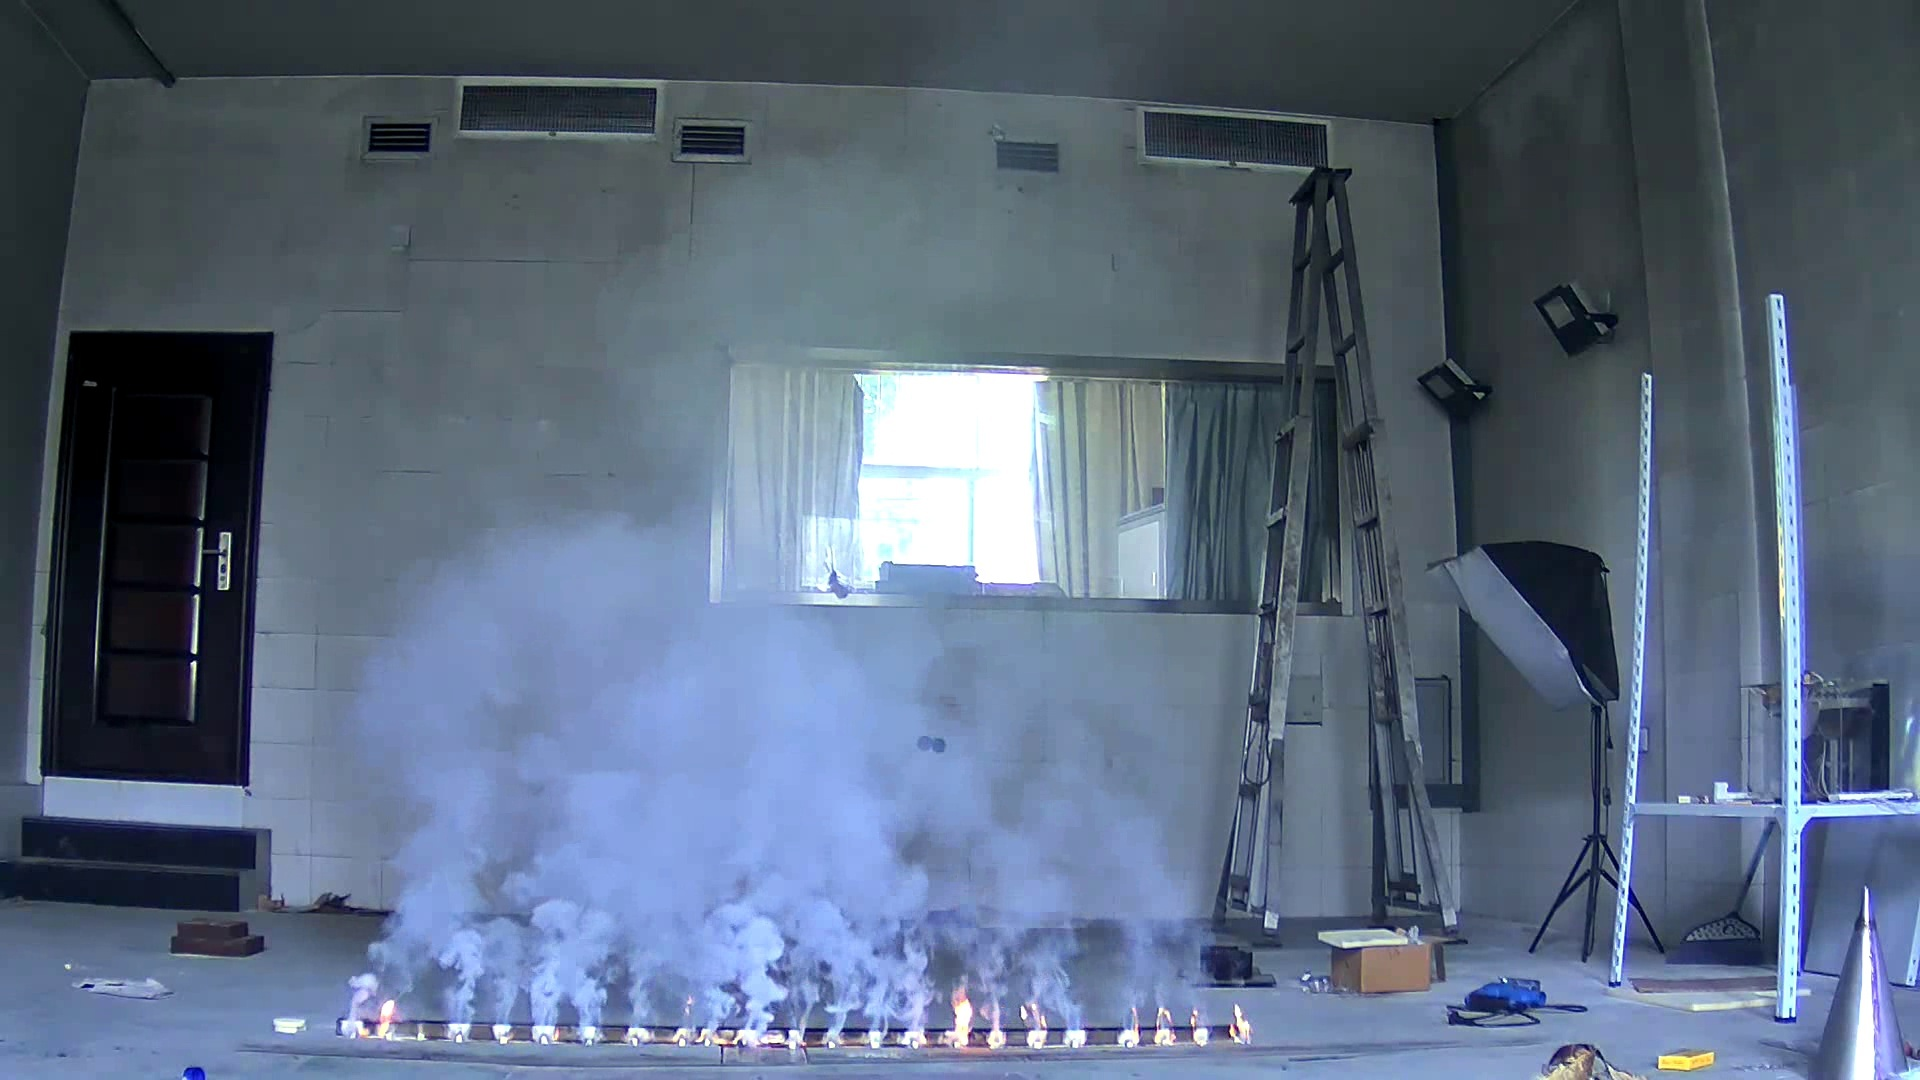smoke: (316, 505, 1217, 1030)
